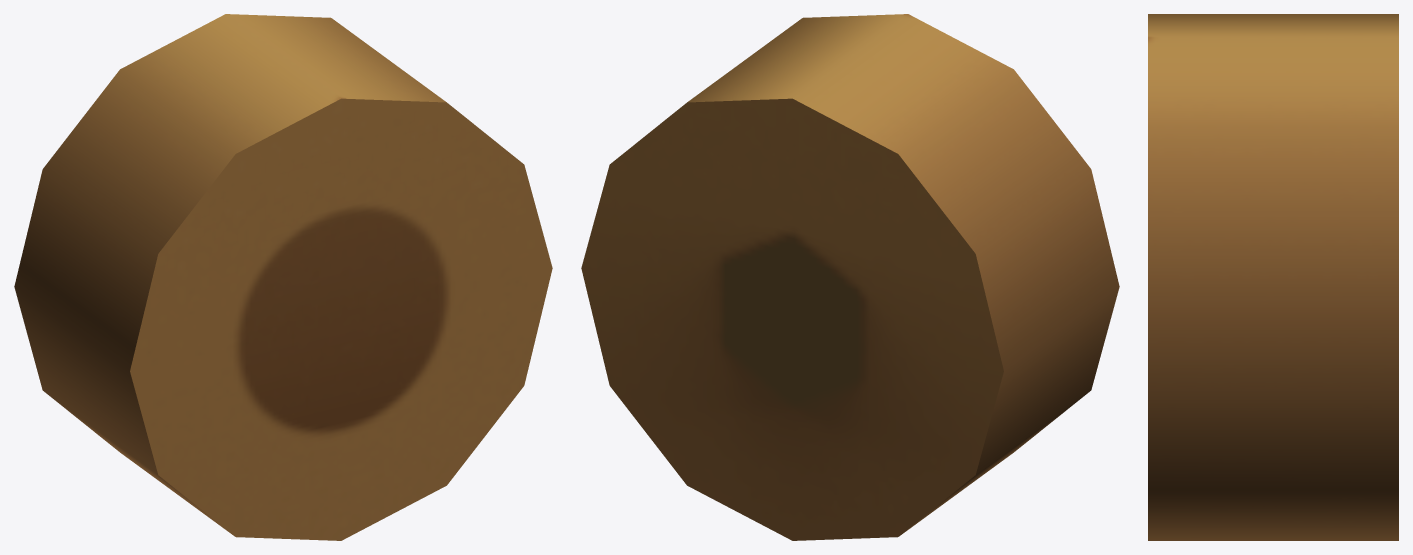
Rendered from shengzi_u_03.FBX.
The picture shows the model from 3 angles, left to right: view 1: azimuth 30°, elevation 25°; view 2: azimuth 150°, elevation 25°; view 3: azimuth 270°, elevation 25°; orthographic projection. The views are drawn at different scales.
Parts seen in each view (by area): view 1: objshengsuo02_shang; view 2: objshengsuo02_shang; view 3: objshengsuo02_shang.
Boxes of the visible parts, x1=… form: objshengsuo02_shang: x1=14, y1=14, x2=552, y2=540; objshengsuo02_shang: x1=581, y1=14, x2=1119, y2=540; objshengsuo02_shang: x1=1148, y1=14, x2=1398, y2=540.
Size of the model in its own units: 1.55 by 1.55 by 0.7351.
